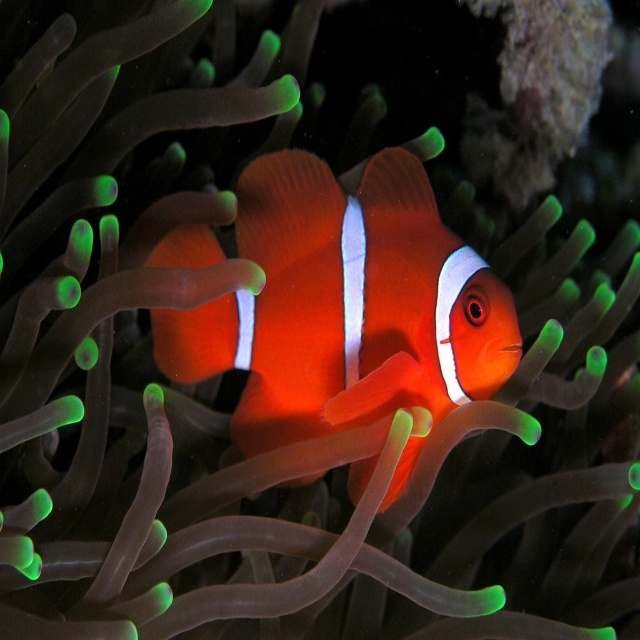Fish: (143, 147, 522, 514)
